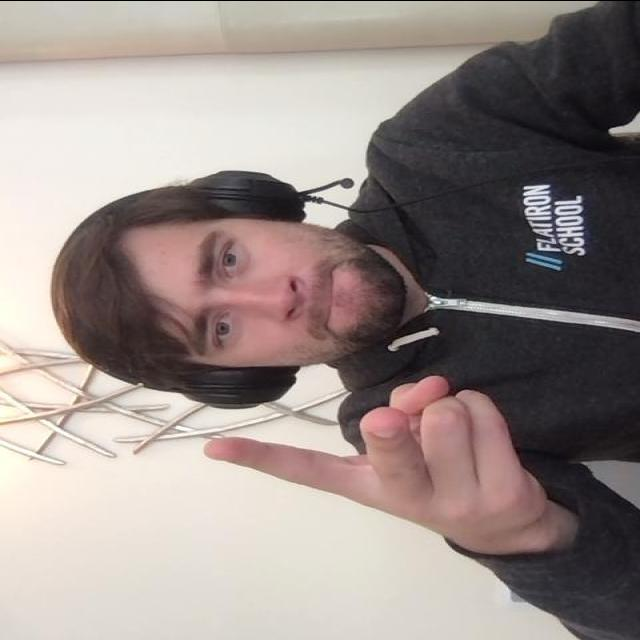Scissors: (202, 360, 556, 538)
